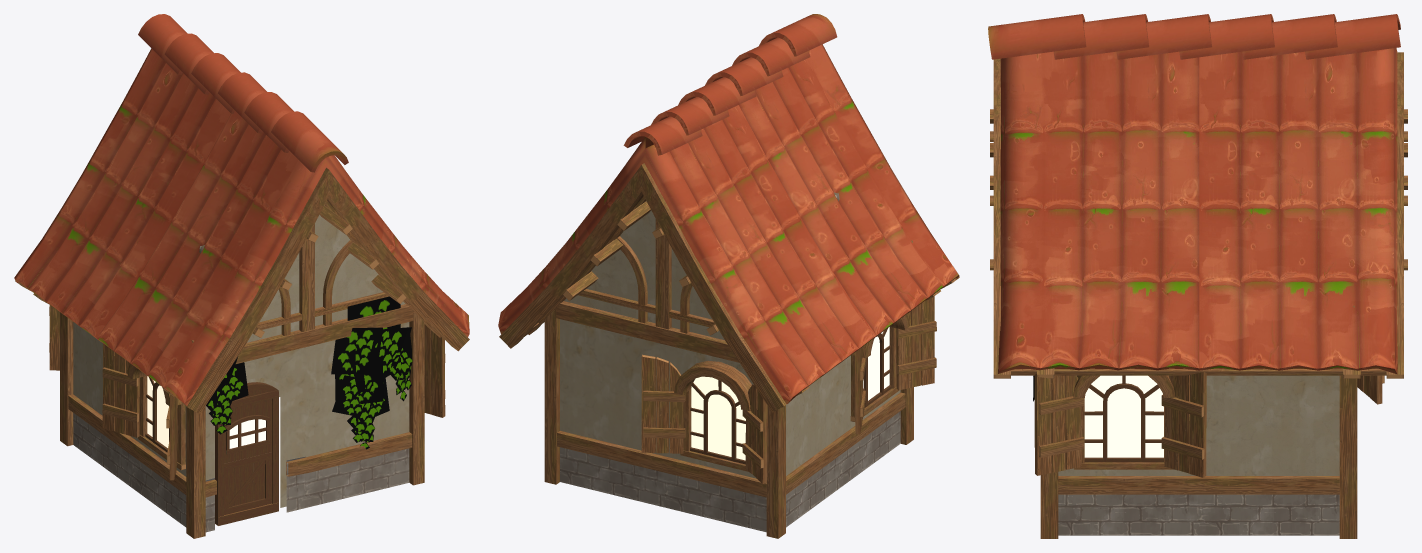
Rendered from kit-cottage-round.glb.
3 views of the same model, side by side, from view 1: azimuth 30°, elevation 25°; view 2: azimuth 150°, elevation 25°; view 3: azimuth 270°, elevation 25° (orthographic). The views are drawn at different scales.
Visible parts, largest first — view 1: house; view 2: house; view 3: house.
Boxes of the visible parts, box(x1,y1,x2,y2) form: house: box(14, 14, 469, 538); house: box(498, 14, 959, 538); house: box(988, 14, 1407, 538).
Size of the model in its own units: 5.51 by 6.73 by 5.62.
9 materials, 8 textured.
